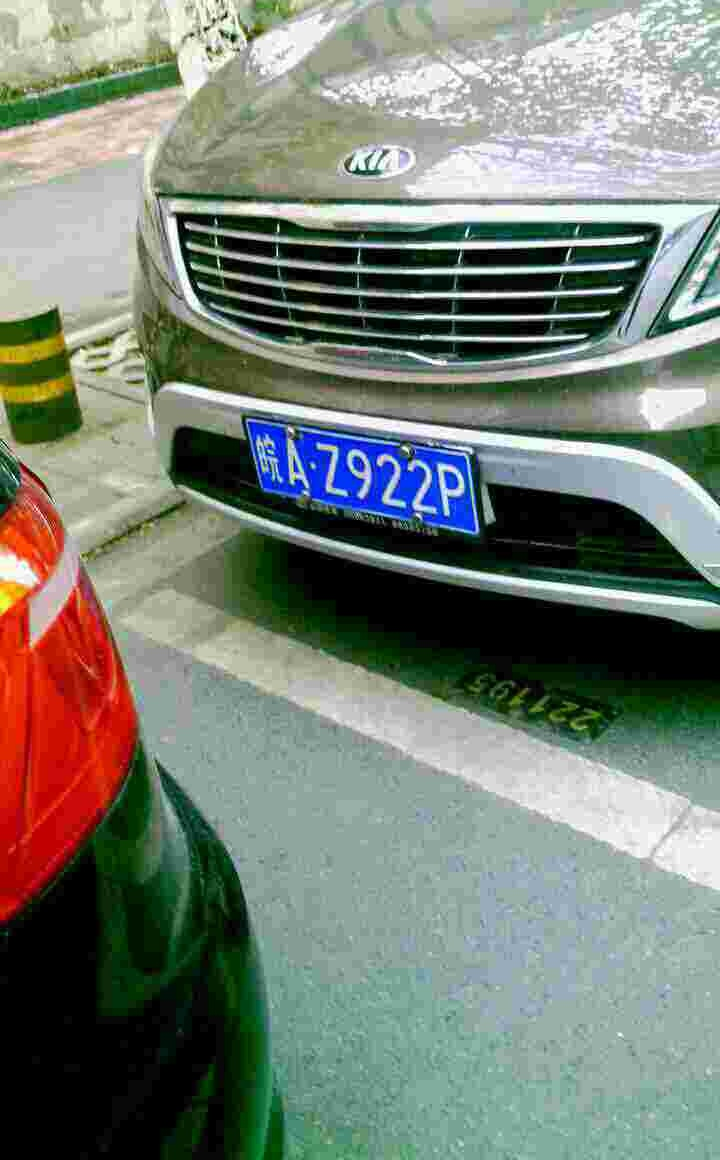license_plate: (245, 413, 486, 545)
